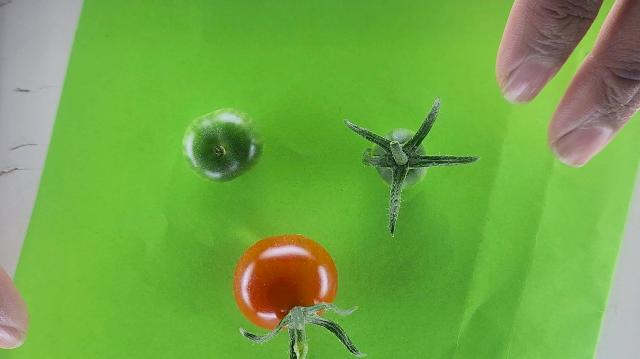Fruit Maturation: (181, 106, 265, 184), (370, 130, 427, 190)
Fully Grown: (230, 234, 339, 332)
